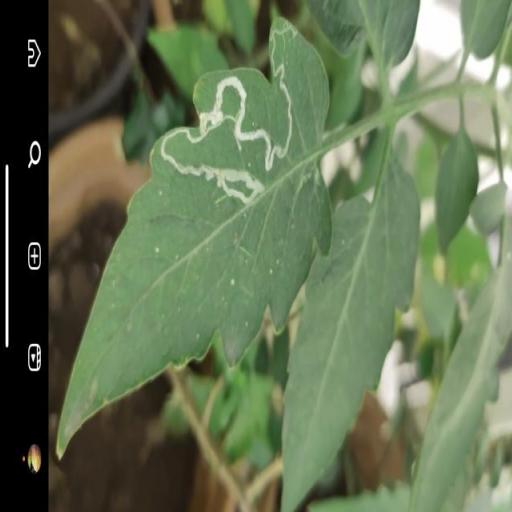Healthy: (282, 158, 420, 512)
Leaf Miner: (54, 16, 328, 460)
